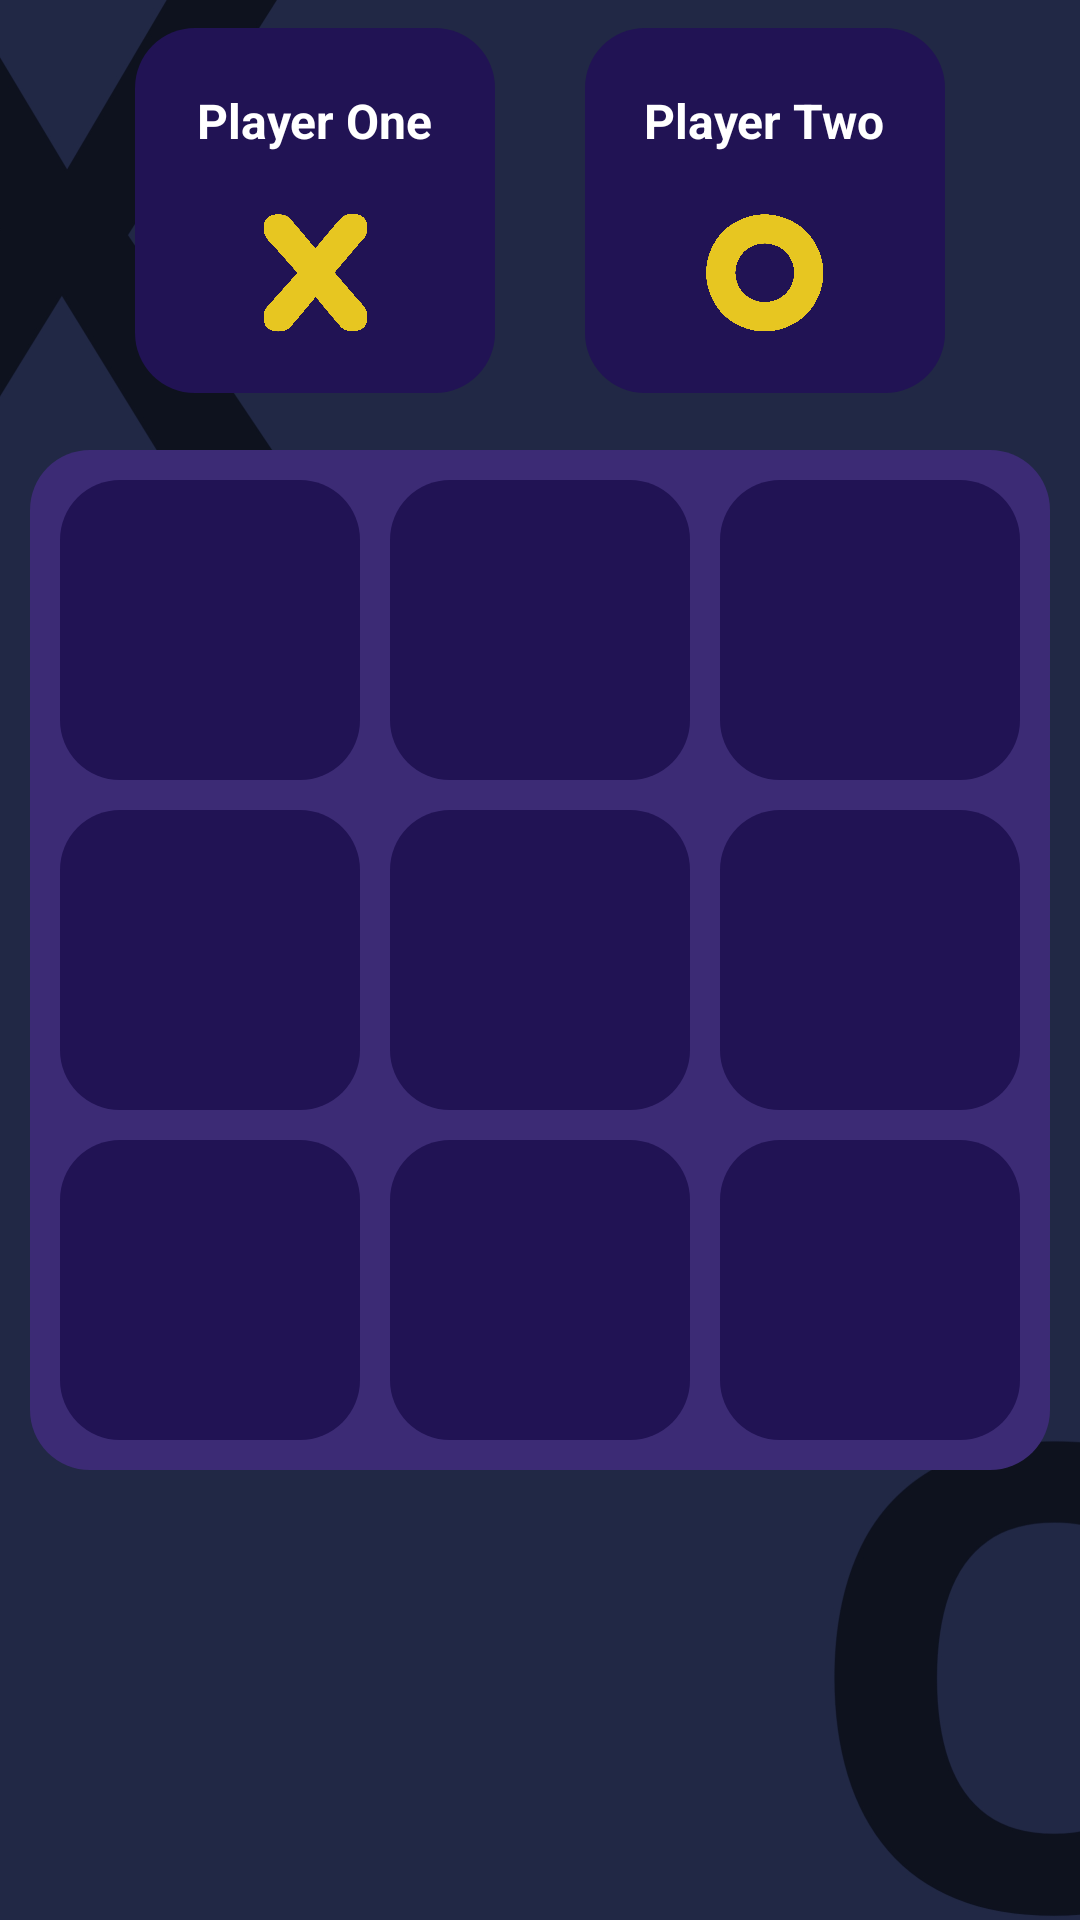

Where icons sit on this 1080*1920 app screen, as (x1, y1, x2, y2):
circle: (706, 214, 823, 331)
cross: (264, 214, 367, 332)
